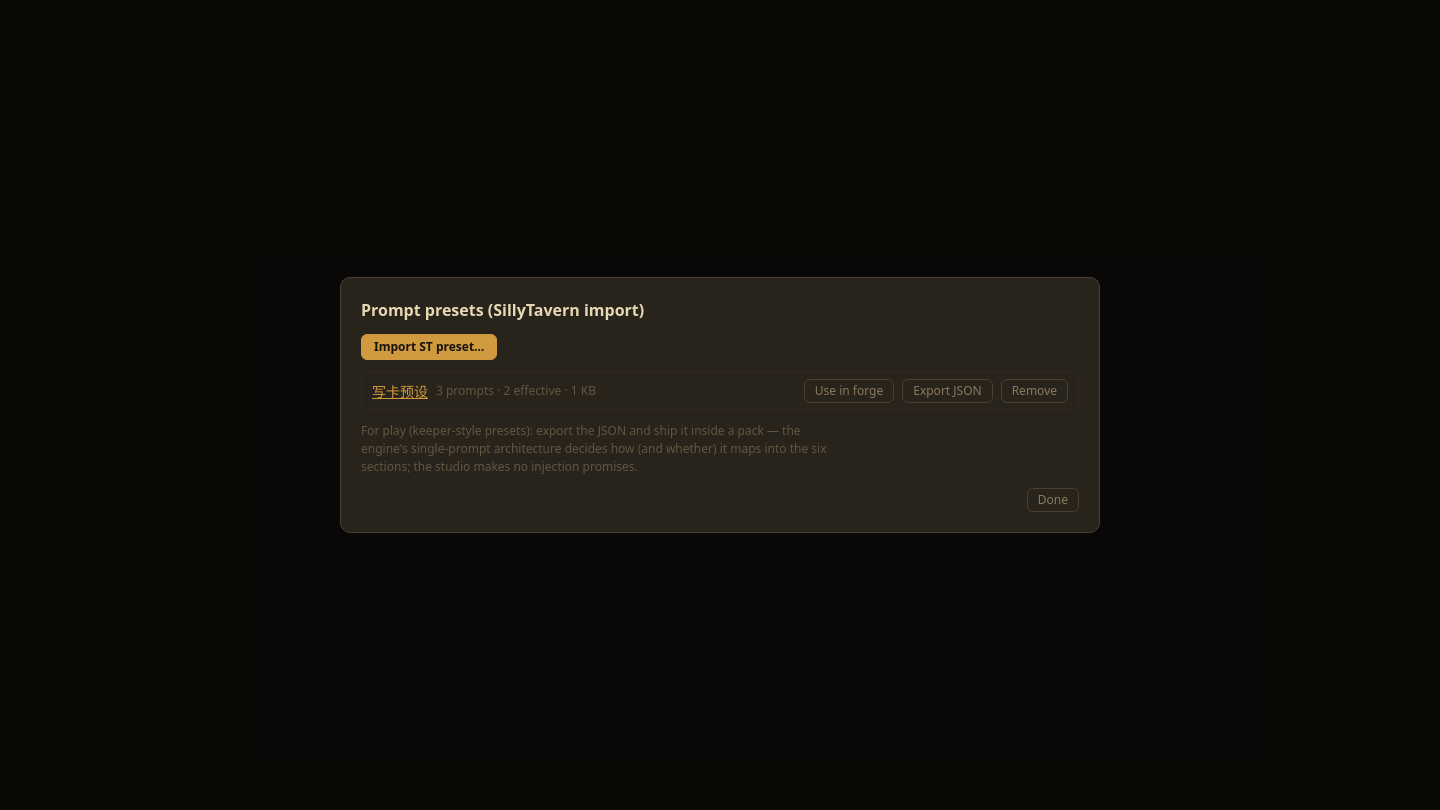
Test: PresetManagerDialog › activates a preset for the forge
Click the button "Use in forge" at coordinates (849, 391), box x1=804 y1=379 x2=894 y2=403
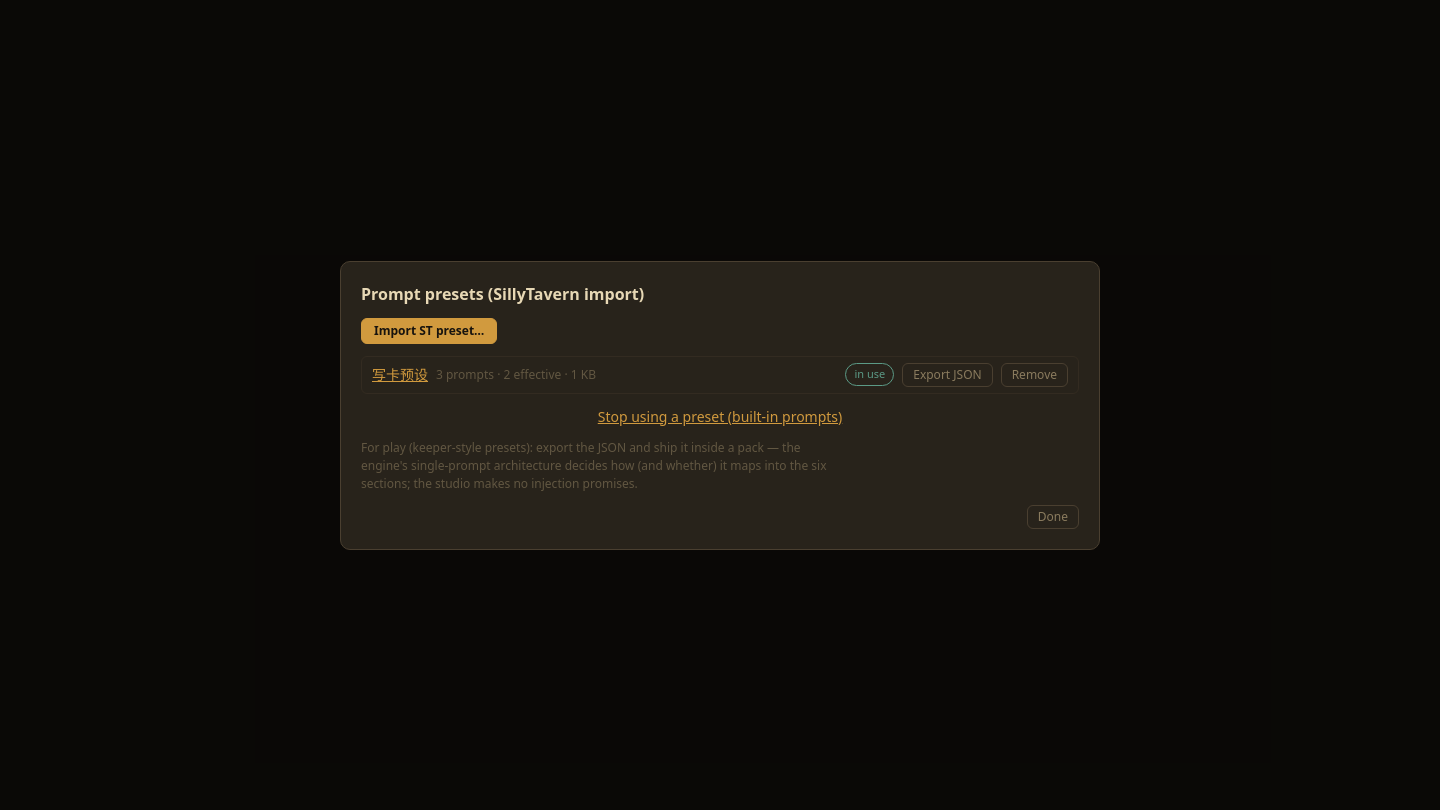
Expected: the text "in use" is shown, x1=845 y1=363 x2=894 y2=386
